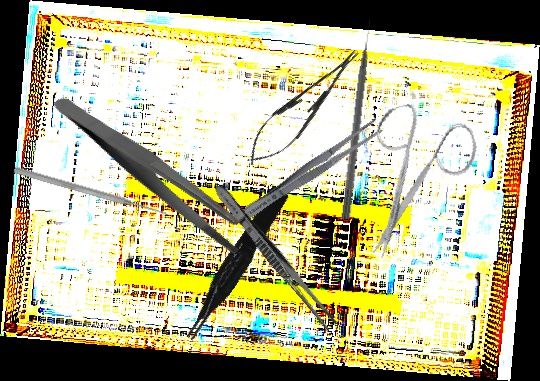Dressing Forceps: (51, 56, 254, 288), (209, 181, 341, 333), (234, 116, 385, 227)
Iris Scissors: (337, 89, 499, 261)
Needle Holder: (236, 38, 371, 177)
Pusher: (12, 165, 170, 219), (340, 19, 377, 220)
Tissue Forceps: (173, 184, 296, 344)
